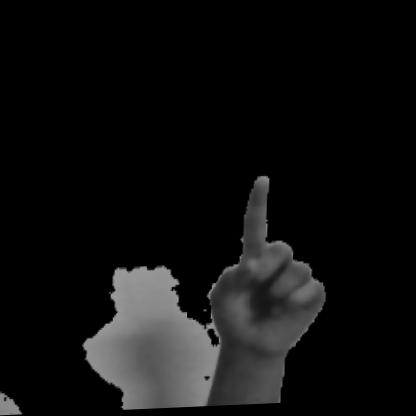one: (169, 163, 380, 408)
